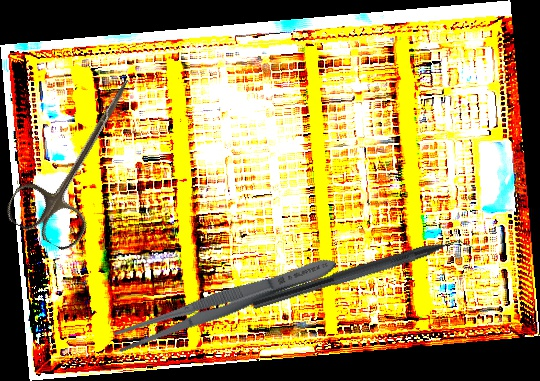Chopper: (250, 226, 484, 326)
Dressing Forceps: (110, 249, 341, 357)
Iris Scissors: (1, 58, 159, 256)
